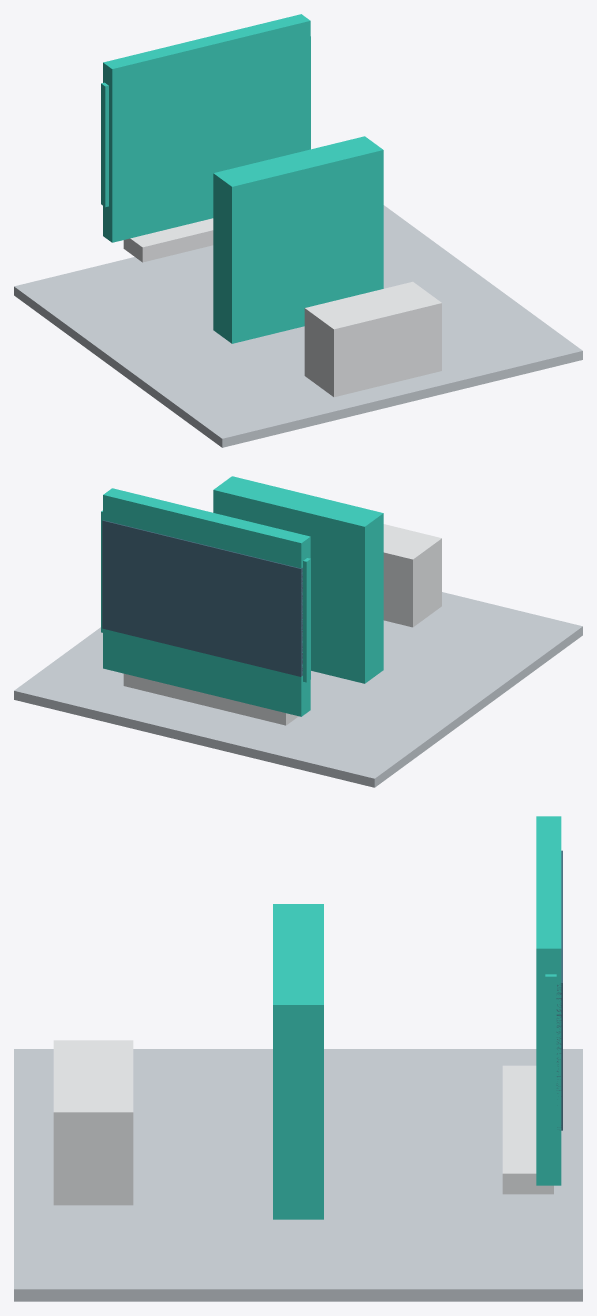
3 renders of one model, top to bottom at view 1: azimuth 30°, elevation 25°; view 2: azimuth 150°, elevation 25°; view 3: azimuth 270°, elevation 25°, orthographic. The views are drawn at different scales.
Parts seen in each view (by area): view 1: Exhibition Booth Concept; view 2: Exhibition Booth Concept; view 3: Exhibition Booth Concept.
Boxes of the visible parts, x1,y1,x2,y2 form: Exhibition Booth Concept: (14, 14, 582, 447); Exhibition Booth Concept: (14, 476, 582, 787); Exhibition Booth Concept: (14, 816, 582, 1301).
Size of the model in its own units: 5 by 2.9 by 5.
